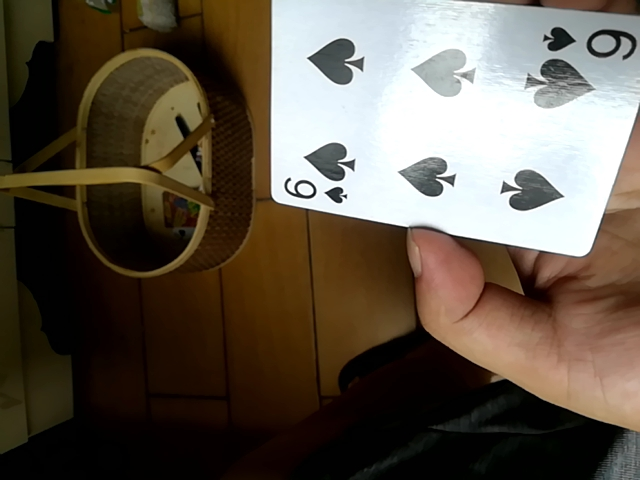ht 6: (266, 0, 639, 266)
